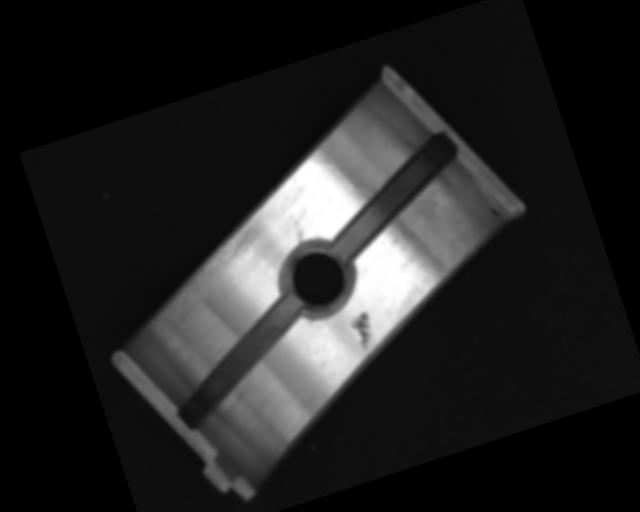blot: (488, 204, 506, 222)
bruise: (349, 310, 379, 351)
gap: (155, 290, 328, 430), (309, 131, 476, 262)
hole: (271, 235, 363, 325)
nick: (307, 145, 356, 202), (292, 219, 307, 244)
scratch: (136, 211, 286, 327)
